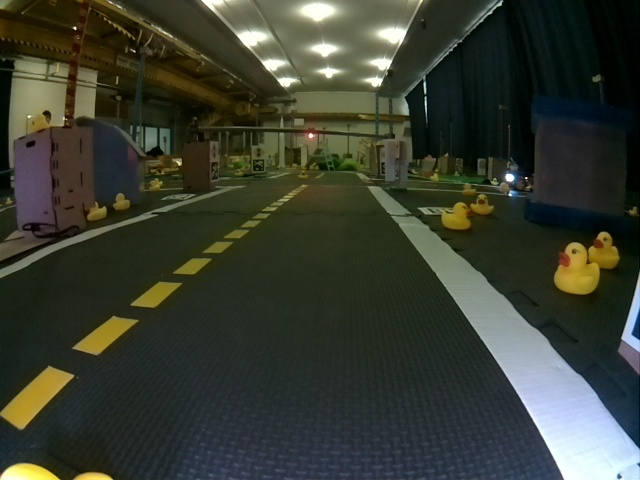Duckie: (555, 244, 600, 292), (588, 232, 620, 268), (442, 202, 471, 230), (87, 202, 107, 221), (472, 198, 494, 215), (114, 193, 129, 210), (462, 183, 473, 195), (298, 170, 308, 180), (431, 173, 440, 182), (154, 177, 162, 187), (149, 181, 158, 189), (491, 178, 499, 187)
QR code: (419, 206, 455, 215), (162, 193, 196, 202), (211, 161, 220, 179), (253, 159, 264, 171)
